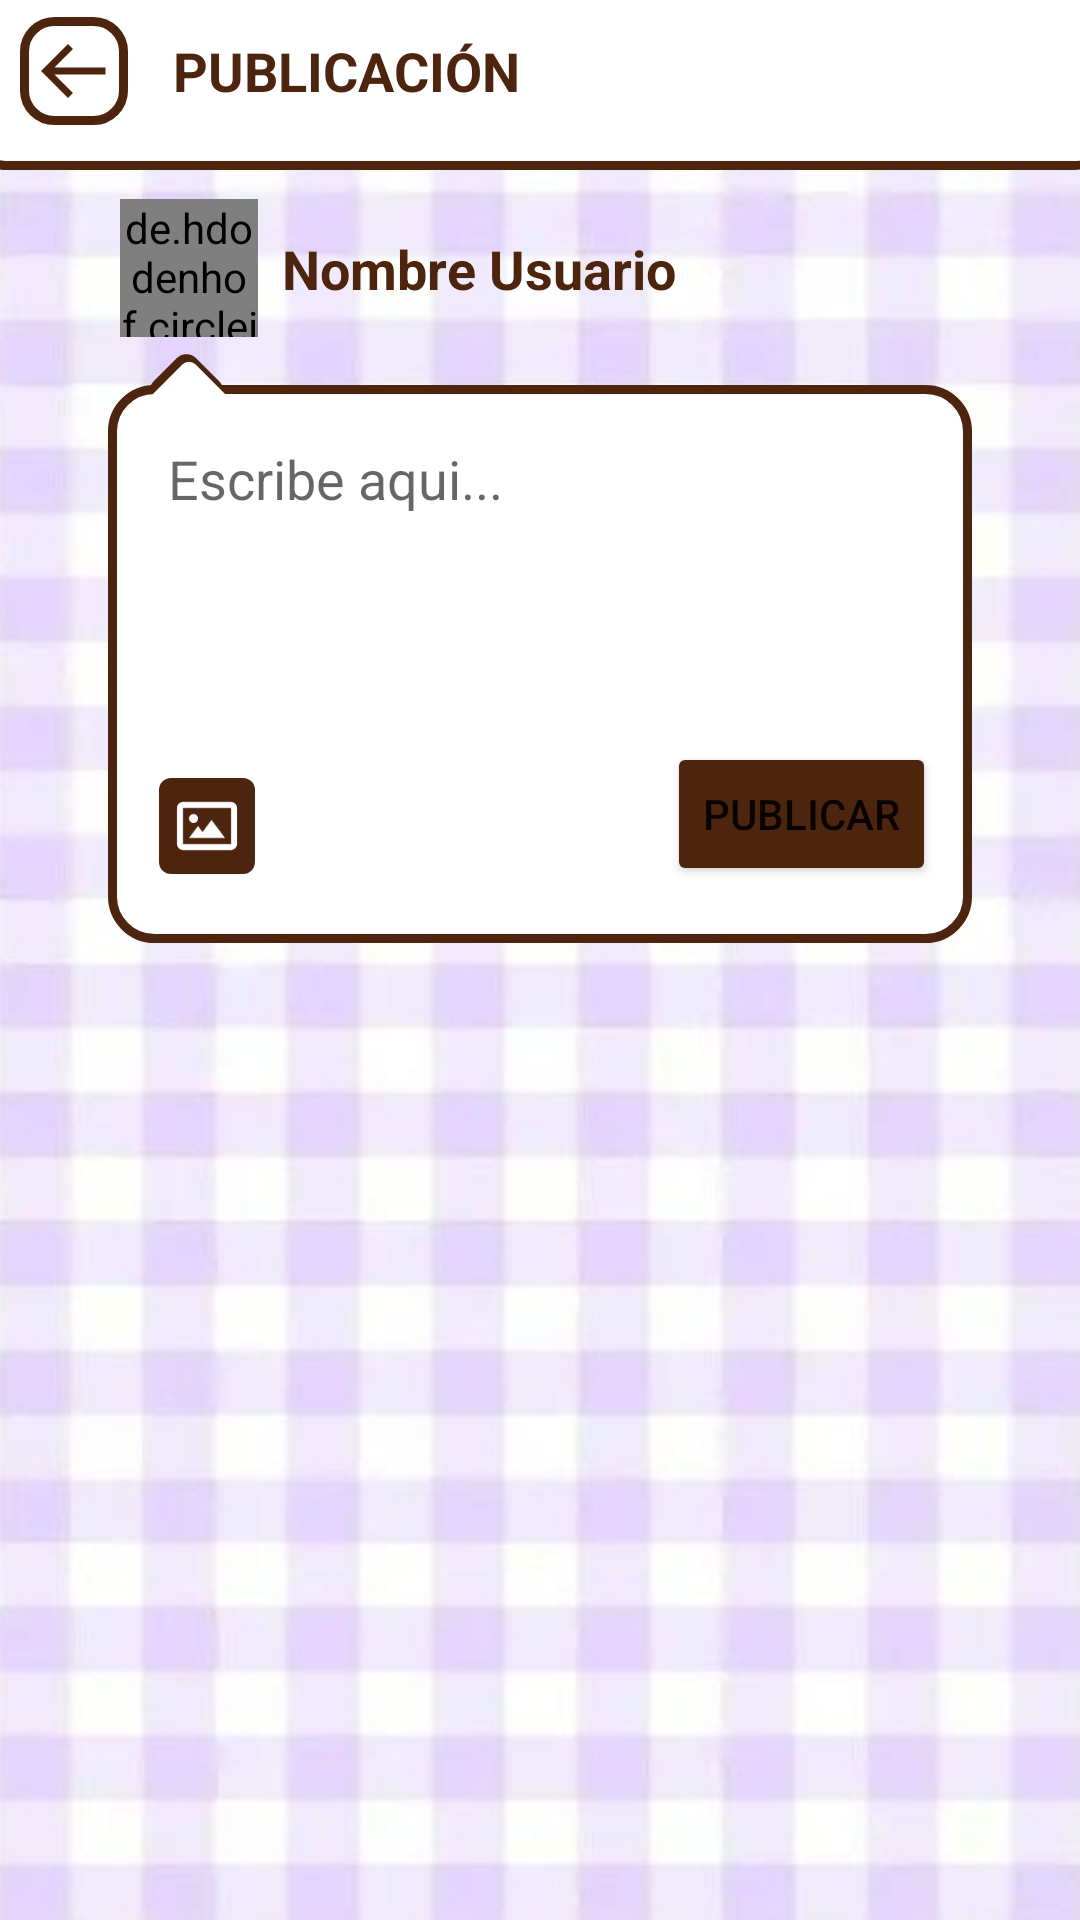

Where to tap for icons on this 1080w x 1920h app screen, as [x,y]:
arrow back brown: [74,71]
